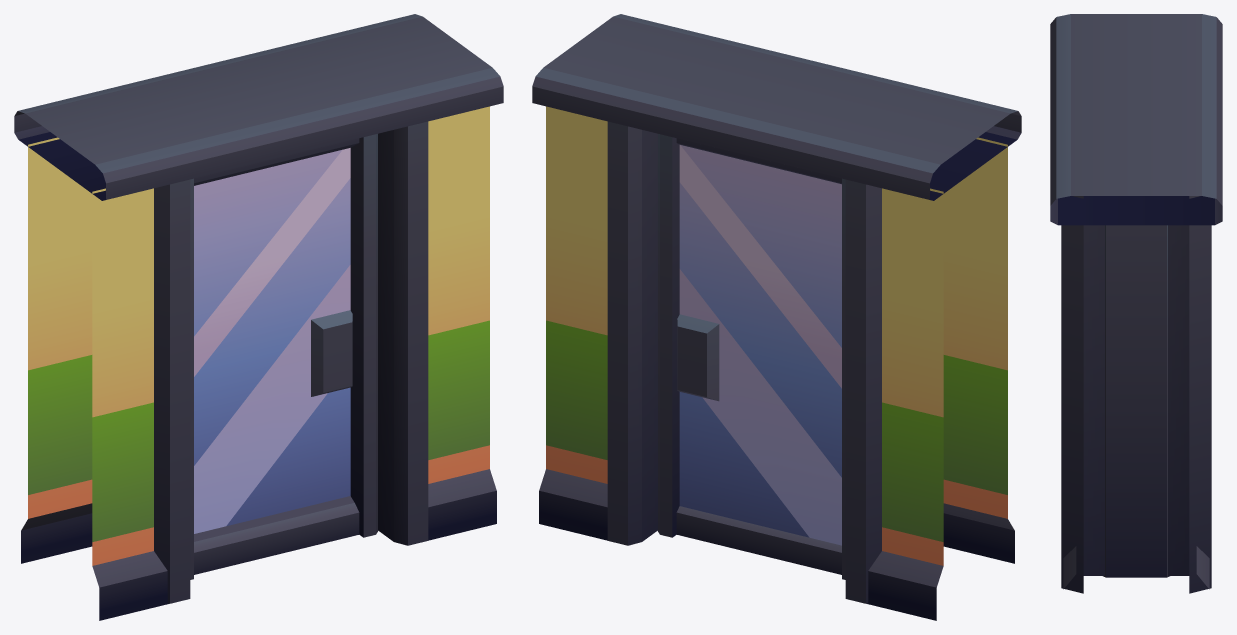
File: door_c.fbx
The picture shows the model from 3 angles, left to right: view 1: azimuth 30°, elevation 25°; view 2: azimuth 150°, elevation 25°; view 3: azimuth 270°, elevation 25°; orthographic projection. The views are drawn at different scales.
Parts seen in each view (by area): view 1: glass_door_frame, glass_door; view 2: glass_door_frame, glass_door; view 3: glass_door_frame, glass_door.
Boxes of the visible parts, x1,y1,x2,y2 form: glass_door_frame: (14,14,503,620); glass_door: (190,134,377,579); glass_door_frame: (532,14,1021,620); glass_door: (658,134,845,579); glass_door_frame: (1050,14,1222,593); glass_door: (1103,225,1169,577).
Bounding box in the file's own units: 184 × 200 × 73.48.
